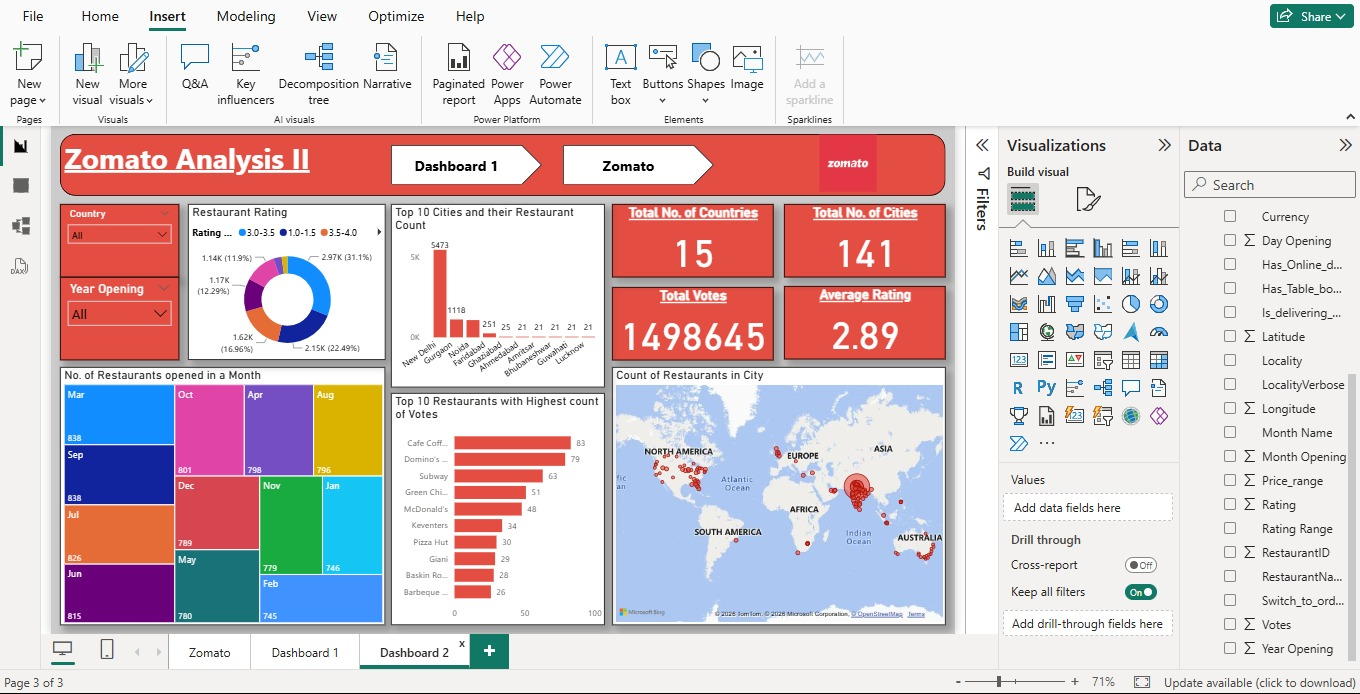

This screenshot's page, from the dashboard's own definition file:
{"tool":"powerbi","page":{"name":"Dashboard 2","canvas":[1280,720],"ordinal":2},"visuals":[{"type":"shape","box":[12.5,11.2,1255,87.5],"z":0},{"type":"shape","box":[482.5,27.5,213.8,56.2],"z":1000},{"type":"image","box":[992.5,7.5,275,91.2],"z":2000},{"type":"shape","box":[726.2,26.2,213.8,56.2],"z":3000},{"type":"card","title":"Total Votes","fields":{"Values":["Sum(Main.Votes)"]},"box":[795,227.5,228.8,103.8],"z":3001},{"type":"card","title":"Average Rating","fields":{"Values":["Avg(Main.Rating)"]},"box":[1038.8,226.2,228.8,103.8],"z":3002},{"type":"card","title":"Total No. of Countries","fields":{"Values":["Count(Main.CountryCode)"]},"box":[795,110,228.8,103.8],"z":3003},{"type":"card","title":"Total No. of Cities","fields":{"Values":["Count(Main.City)"]},"box":[1038.8,110,228.8,103.8],"z":3004},{"type":"map","title":"Count of Restaurants in City","fields":{"Category":["Main.City"],"Size":["CountNonNull(Main.RestaurantID)"]},"box":[795,341.2,472.5,366.2],"z":3005},{"type":"slicer","fields":{"Values":["Country.Countryname"]},"box":[12.5,110,168.8,103.8],"z":3006},{"type":"slicer","fields":{"Values":["Main.Year Opening"]},"box":[12.5,213.8,168.8,117.5],"z":3007},{"type":"treemap","title":"No. of Restaurants opened in a Month","fields":{"Group":["Main.Month Name"],"Values":["CountNonNull(Main.RestaurantID)"]},"box":[12.5,341.2,461.2,366.2],"z":3008},{"type":"donutChart","title":"Restaurant Rating","fields":{"Y":["CountNonNull(Main.RestaurantID)"],"Category":["Main.Rating Range"]},"box":[193.8,110,280,221.2],"z":3009},{"type":"columnChart","title":"Top 10 Cities and their Restaurant Count","fields":{"Category":["Main.City"],"Y":["CountNonNull(Main.RestaurantID)"]},"box":[482.5,110,302.5,260],"z":3010},{"type":"barChart","title":"Top 10 Restaurants with Highest count of Votes","fields":{"Category":["Main.RestaurantName"],"Y":["CountNonNull(Main.Votes)"]},"box":[482.5,378.8,302.5,328.8],"z":3011}]}

Visuals, with their boxes on the page's 1280x720 design canvas (x1, y1, x2, y2). These are canvas units, not pixel positions in the 1360x694 screenshot, which may show the page scaled, cropped or inside an application window:
shape: (12,11,1268,99)
shape: (482,28,696,84)
image: (992,8,1268,99)
shape: (726,26,940,82)
"Total Votes" card: (795,228,1024,331)
"Average Rating" card: (1039,226,1268,330)
"Total No. of Countries" card: (795,110,1024,214)
"Total No. of Cities" card: (1039,110,1268,214)
"Count of Restaurants in City" map: (795,341,1268,707)
slicer - Country.Countryname: (12,110,181,214)
slicer - Main.Year Opening: (12,214,181,331)
"No. of Restaurants opened in a Month" treemap: (12,341,474,707)
"Restaurant Rating" donutChart: (194,110,474,331)
"Top 10 Cities and their Restaurant Count" columnChart: (482,110,785,370)
"Top 10 Restaurants with Highest count of Votes" barChart: (482,379,785,708)
